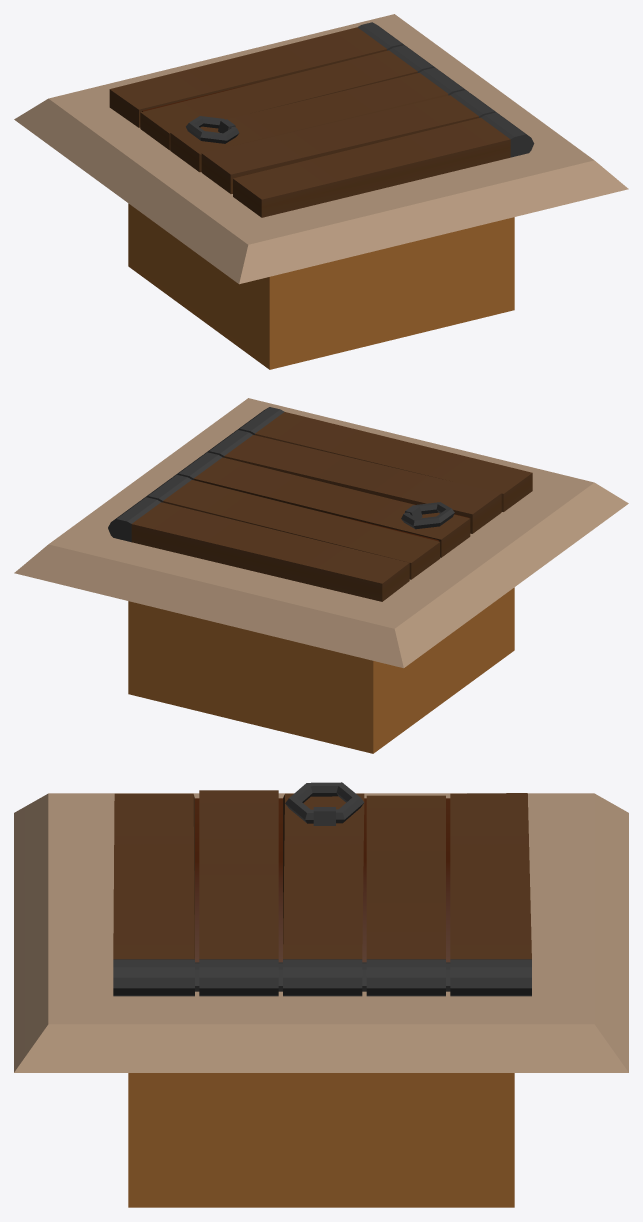
Rendered from Floor_tile_trapdoor_B.fbx.
The picture shows the model from 3 angles, top to bottom: view 1: azimuth 30°, elevation 25°; view 2: azimuth 150°, elevation 25°; view 3: azimuth 270°, elevation 25°; orthographic projection. The views are drawn at different scales.
Visible parts, largest first — view 1: Floor_tile_trapdoor_B, Floor_tile_trapdoor_door; view 2: Floor_tile_trapdoor_B, Floor_tile_trapdoor_door; view 3: Floor_tile_trapdoor_B, Floor_tile_trapdoor_door.
Part boxes in pixels (left/top/right/bottom): Floor_tile_trapdoor_B: left=14, top=14, right=628, bottom=369; Floor_tile_trapdoor_door: left=109, top=22, right=534, bottom=217; Floor_tile_trapdoor_B: left=14, top=398, right=628, bottom=753; Floor_tile_trapdoor_door: left=108, top=407, right=532, bottom=601; Floor_tile_trapdoor_B: left=14, top=793, right=628, bottom=1207; Floor_tile_trapdoor_door: left=113, top=782, right=531, bottom=996.
Size of the model in its own units: 100 by 46.66 by 100.
